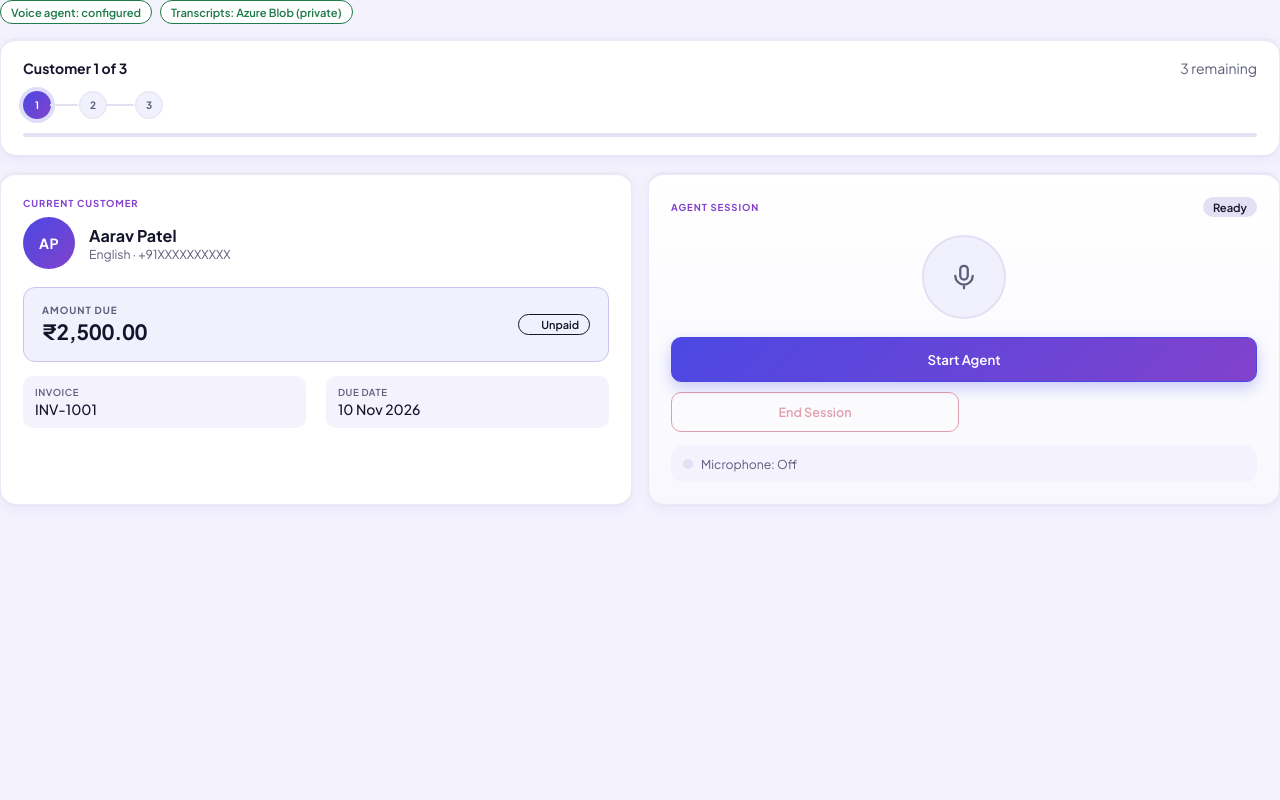
Test case: Dashboard › shows the session timer and live review flags, then the flag count after End Session
Click the button "Start Agent": (964,360) [671,337,1257,382]
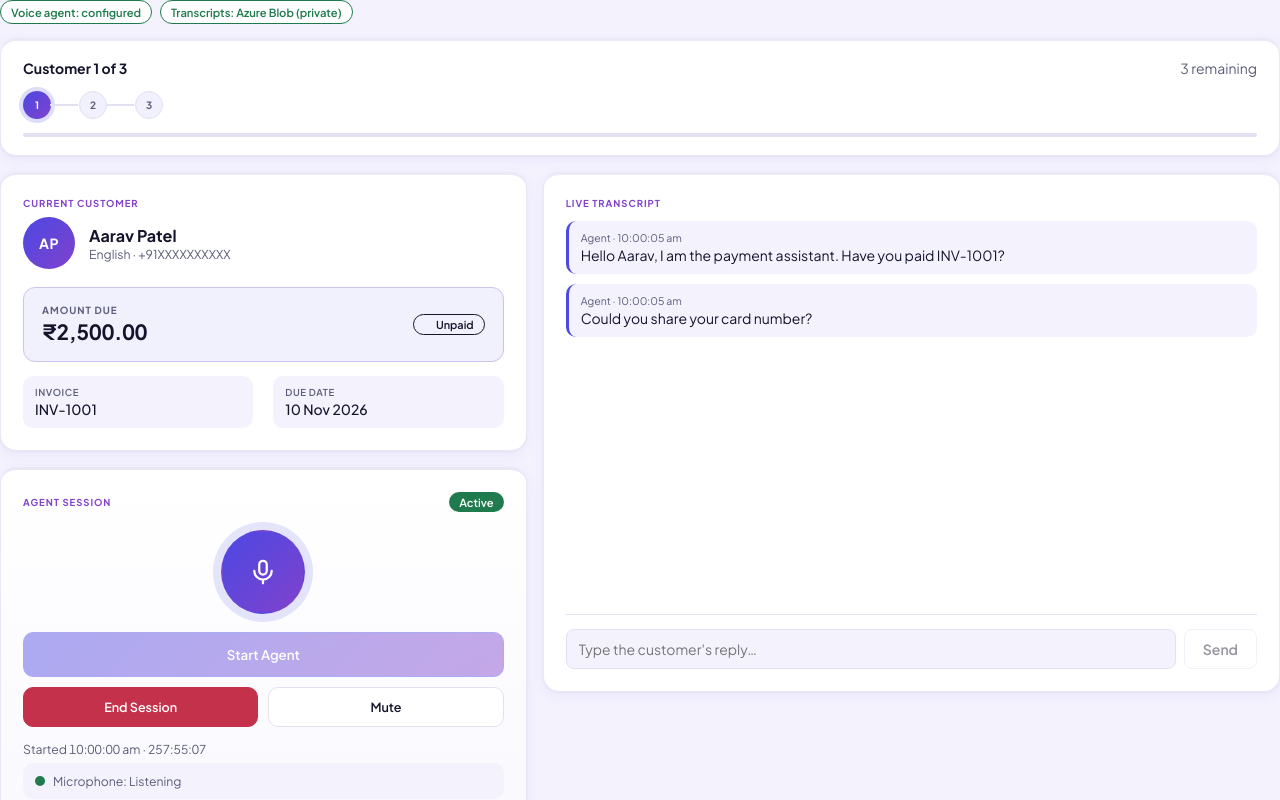
Expected: the element with test id "session-timer" shows "Started", [23,741,69,757]
Click the button "End Session": (141,707) [23,687,258,727]
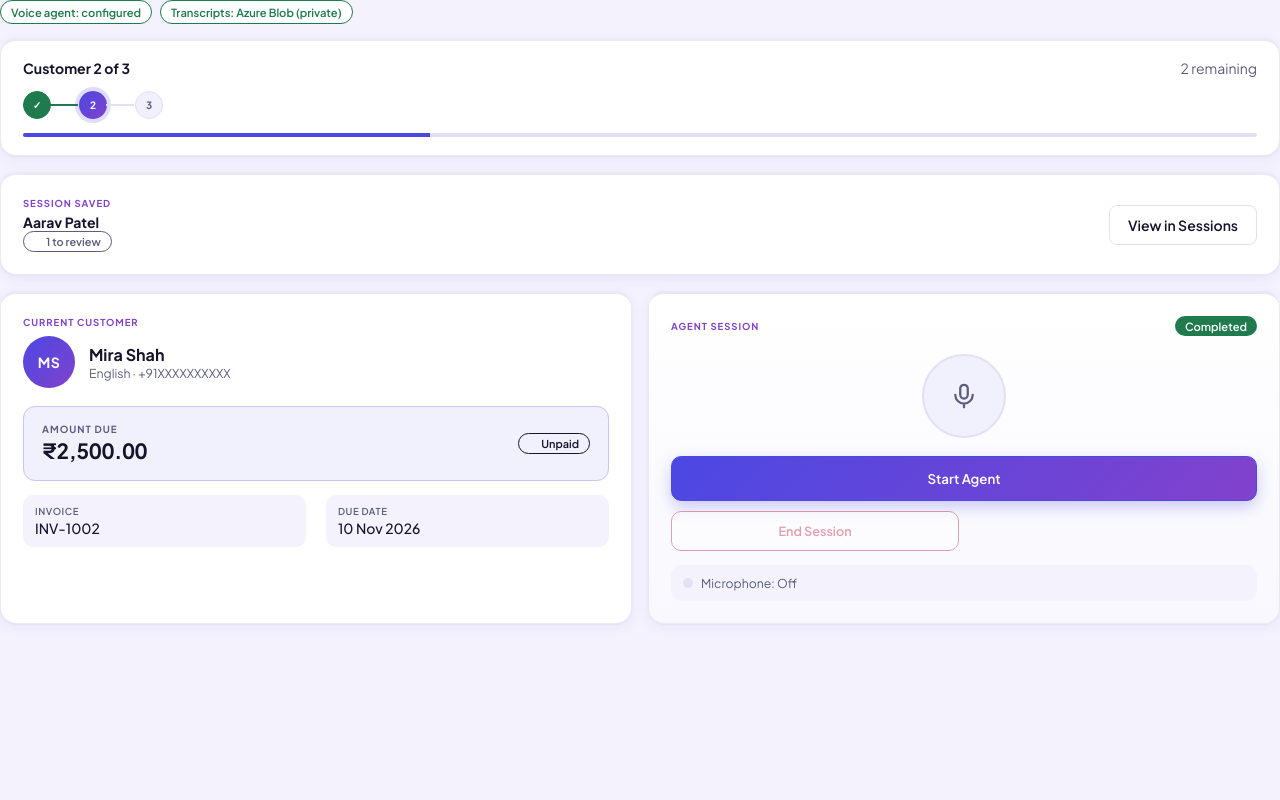
Expected: the text "Customer 2 of 3" is shown, [23,59,130,77]
Expected: the element with test id "session-timer" is gone
Expected: the element with test id "review-flag-count" reads "1 to review", [23,231,112,252]
